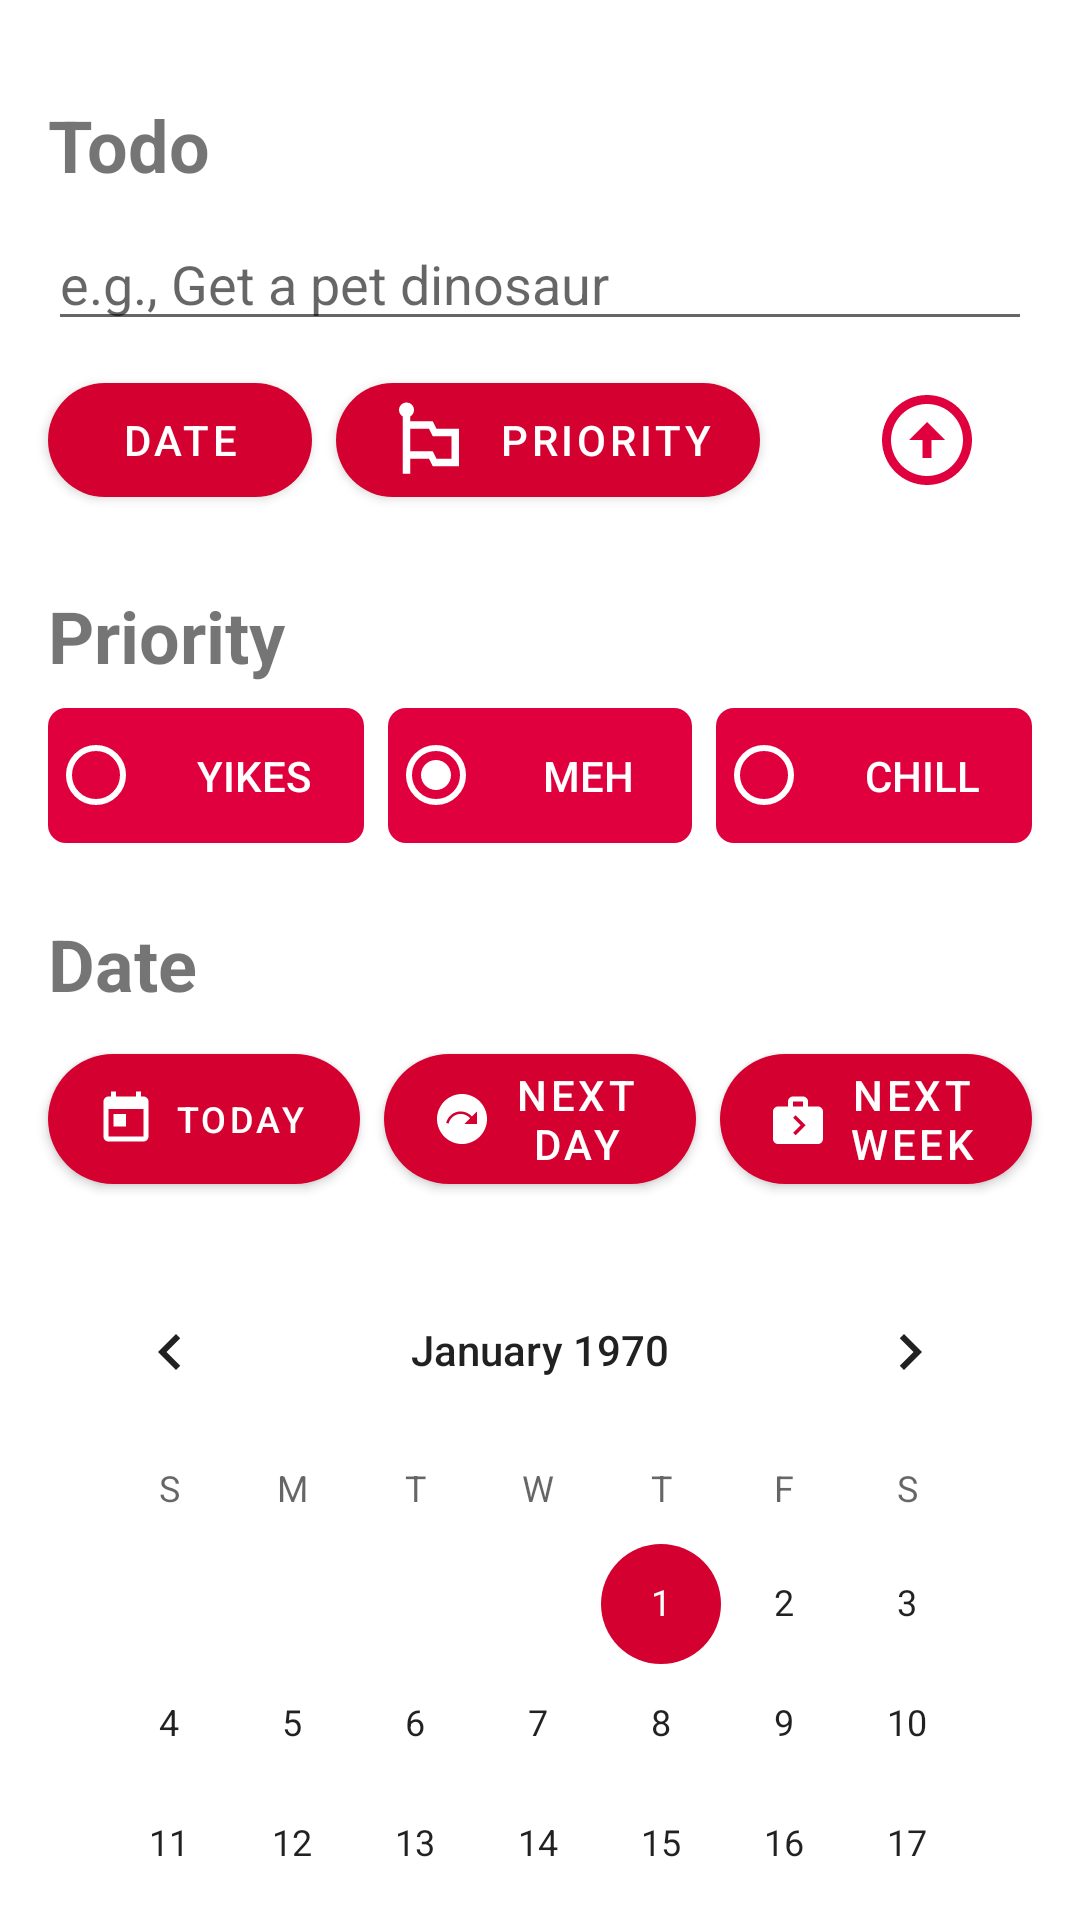

Named icons in this screenshot (1080px×1920px) and their centers, [x,y]:
Save todo: [927,440]
